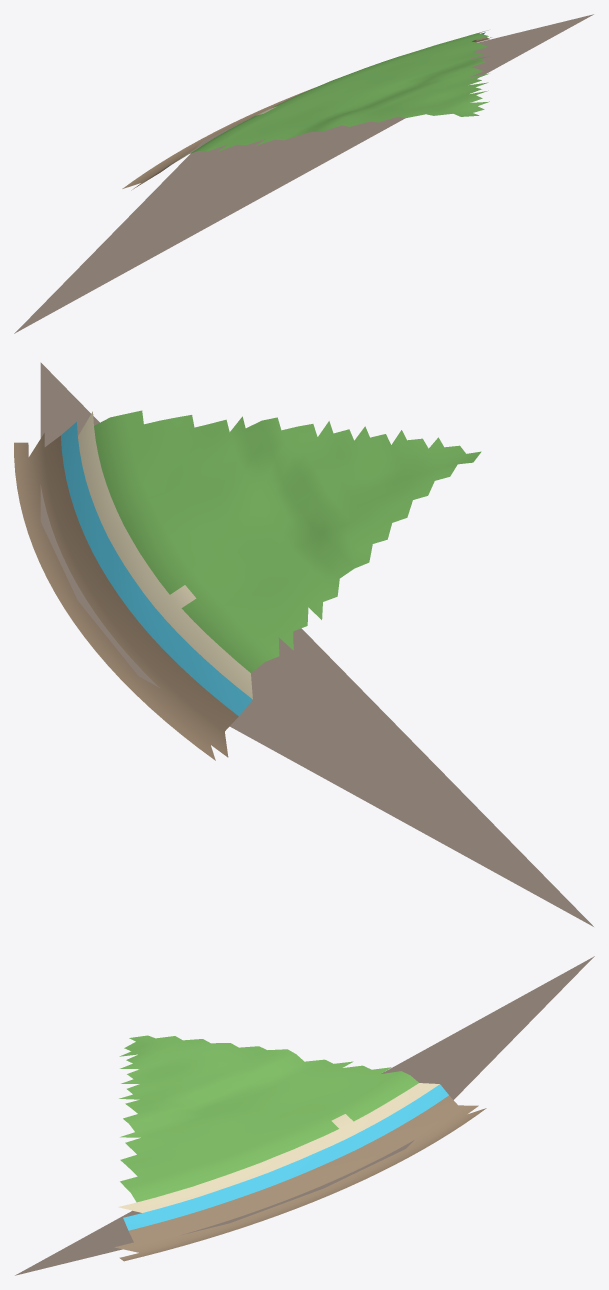
Rendered from flagship_terrain_11.glb.
The picture shows the model from 3 angles, top to bottom: view 1: azimuth 90°, elevation 25°; view 2: azimuth 150°, elevation 25°; view 3: azimuth 270°, elevation 25°; orthographic projection. The views are drawn at different scales.
Parts seen in each view (by area): view 1: Terrain_11; view 2: Terrain_11; view 3: Terrain_11.
Part boxes in pixels (left/top/right/bottom): Terrain_11: left=14, top=14, right=593, bottom=333; Terrain_11: left=14, top=362, right=593, bottom=926; Terrain_11: left=15, top=956, right=594, bottom=1275.
Size of the model in its own units: 95.2 by 10.08 by 73.05.
